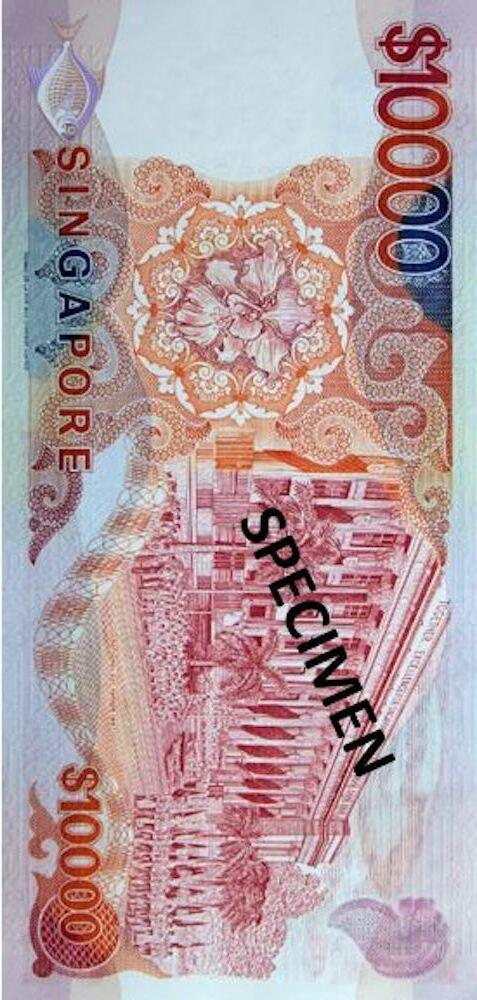10000SingaporeDollar: (6, 0, 477, 1000)
